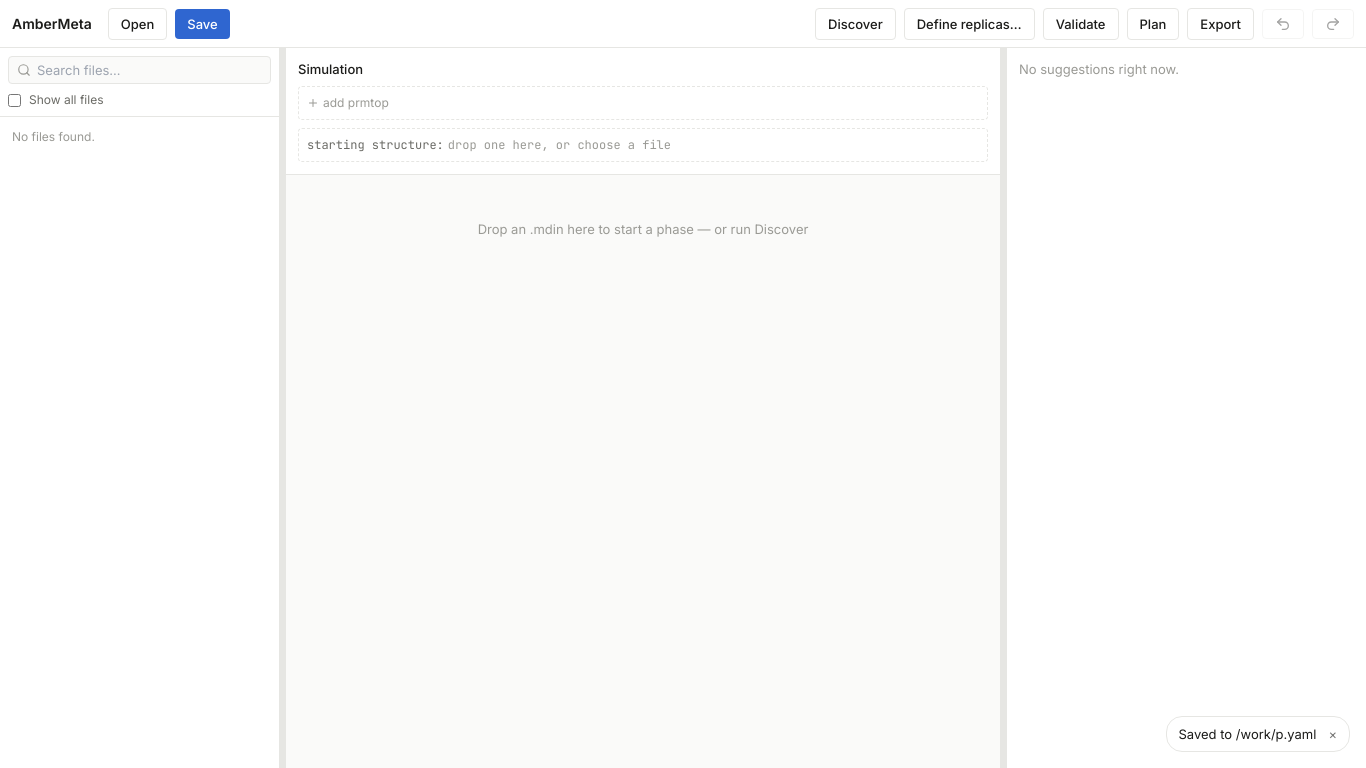
Test: lineage proposal wiring (P2.2/P2.3) › shows the proposal after Discover instead of applying it
Click the button "Discover" at x=855, y=24, box [815, 8, 896, 40]
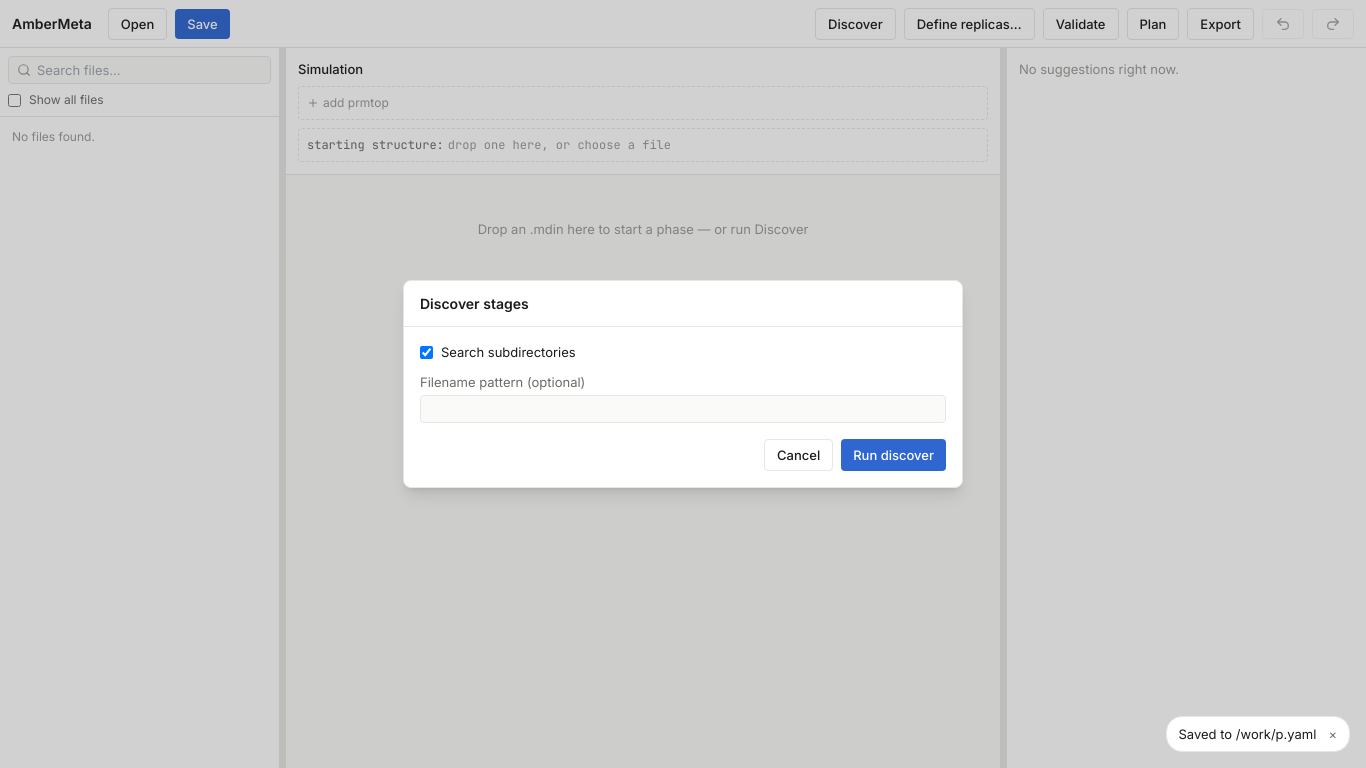
Click the button "Run discover" at x=894, y=455, box [841, 439, 946, 471]
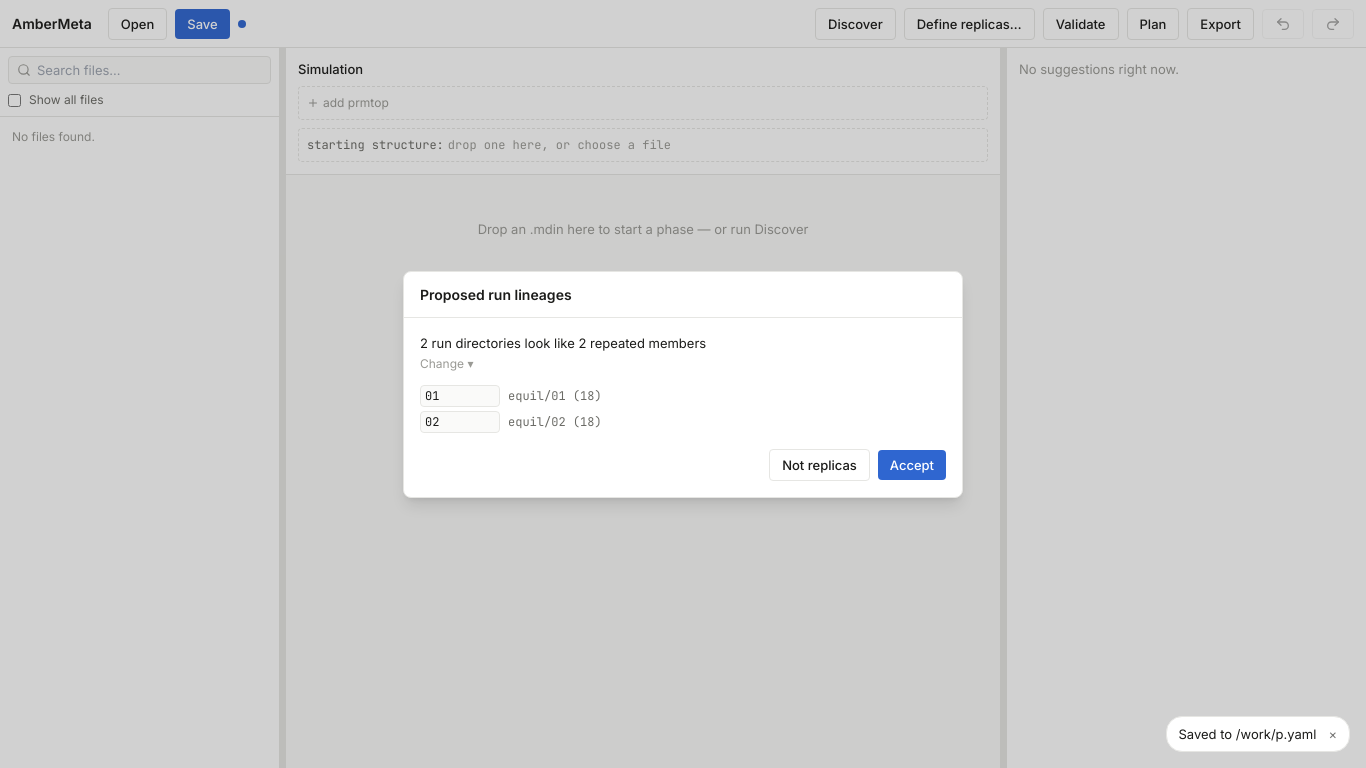
Result: the text "2 run directories look like 2 repeated members" is shown at [420, 334, 706, 350]
